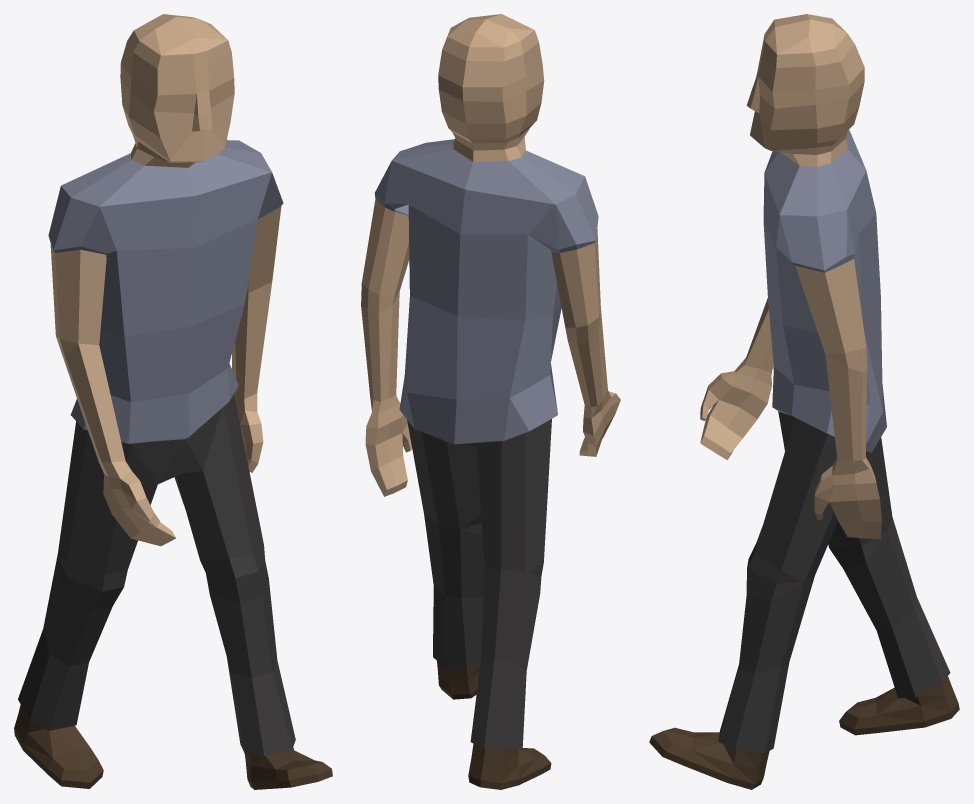
The model's file is Male_Walking.glb.
3 views of the same model, side by side, from view 1: azimuth 30°, elevation 25°; view 2: azimuth 150°, elevation 25°; view 3: azimuth 270°, elevation 25° (orthographic). The views are drawn at different scales.
Visible parts, largest first — view 1: Male_Walking; view 2: Male_Walking; view 3: Male_Walking.
Boxes of the visible parts, left/top/right/bottom form: Male_Walking: left=14, top=14, right=332, bottom=789; Male_Walking: left=361, top=14, right=620, bottom=789; Male_Walking: left=649, top=14, right=959, bottom=789.
Size of the model in its own units: 1.22 by 3.84 by 1.46.
